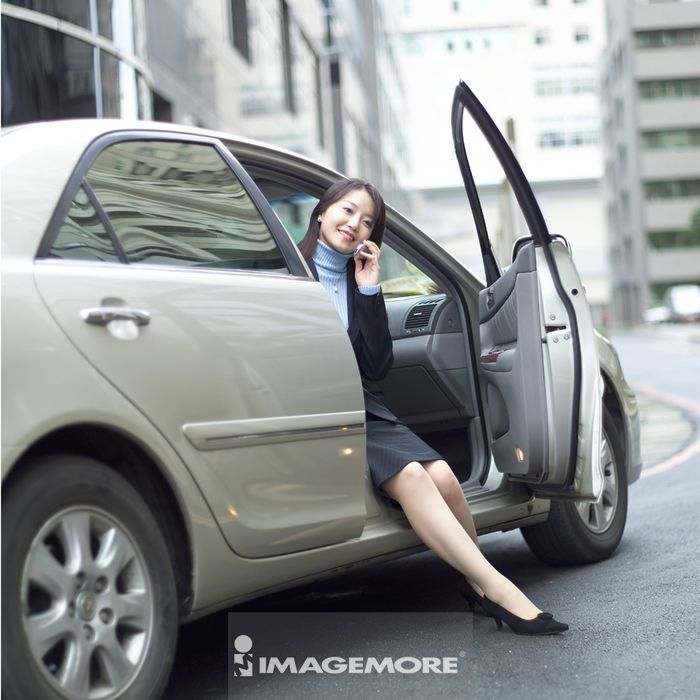talk: (328, 200, 381, 287)
